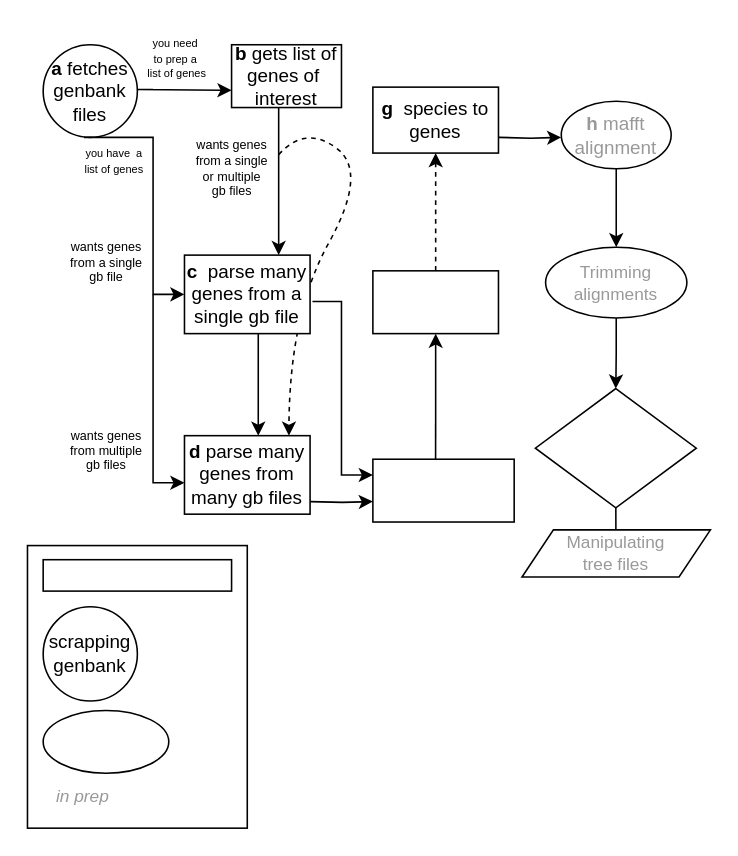
This 738x856 diagram has some shape labels left out. The shapes that lost their labels are listed below. From the top down, each one's centre as x and y in pixels, then its label:
(x=434, y=301): f change fasta headers
(x=615, y=447): Inferring phylogenies
(x=442, y=490): e remove duplicates and sort fasta files
(x=137, y=574): fasta manipulation
(x=105, y=741): manipulating alignments
